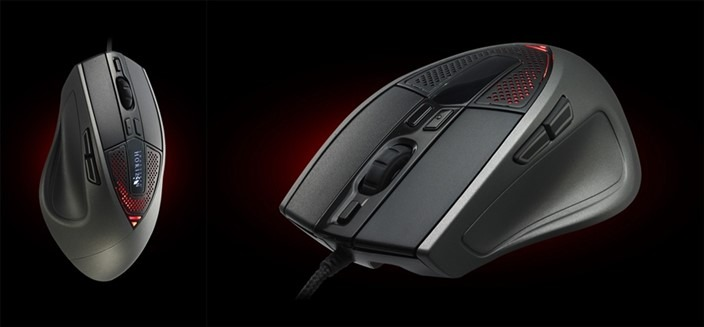mouse: (256, 38, 648, 288), (34, 45, 168, 286)
